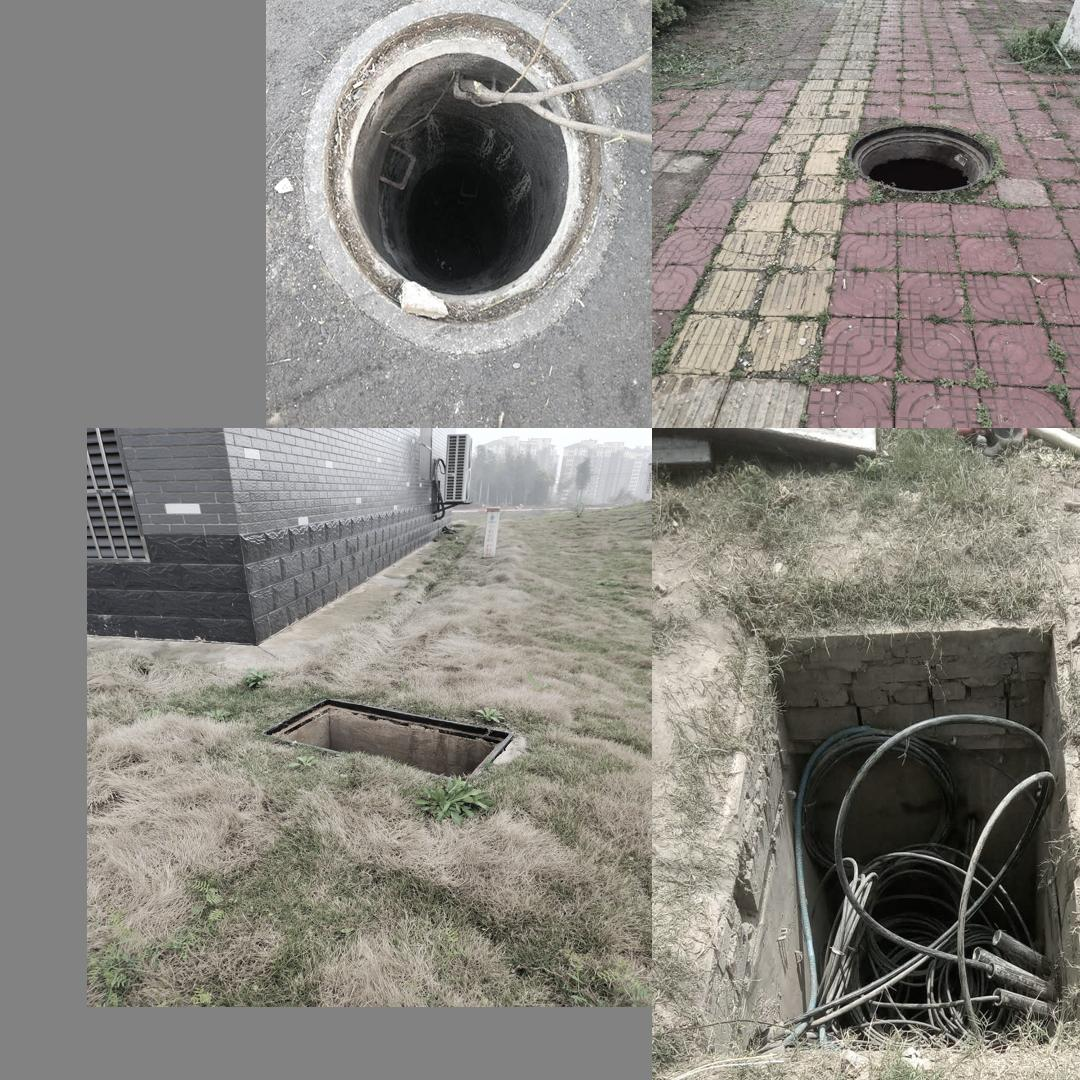lose: (698, 609, 1080, 1058), (299, 0, 628, 354), (254, 698, 513, 781), (849, 123, 994, 194)
